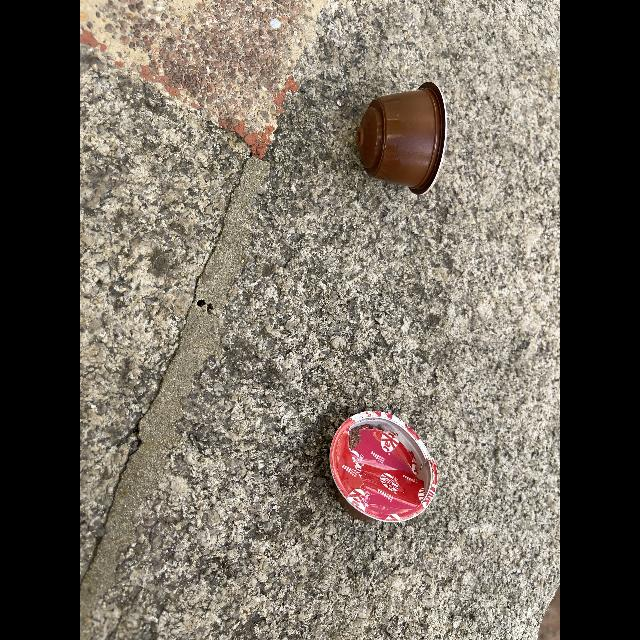damaged_capsule: (310, 405, 442, 533)
intact_capsule: (348, 78, 454, 202)
